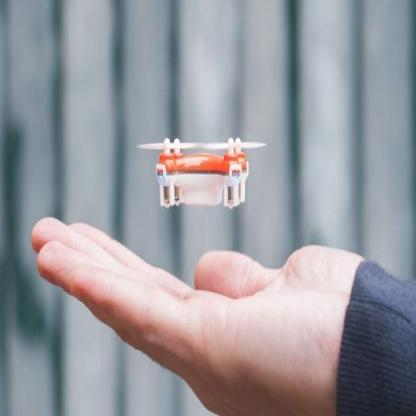drone: (134, 120, 282, 221)
